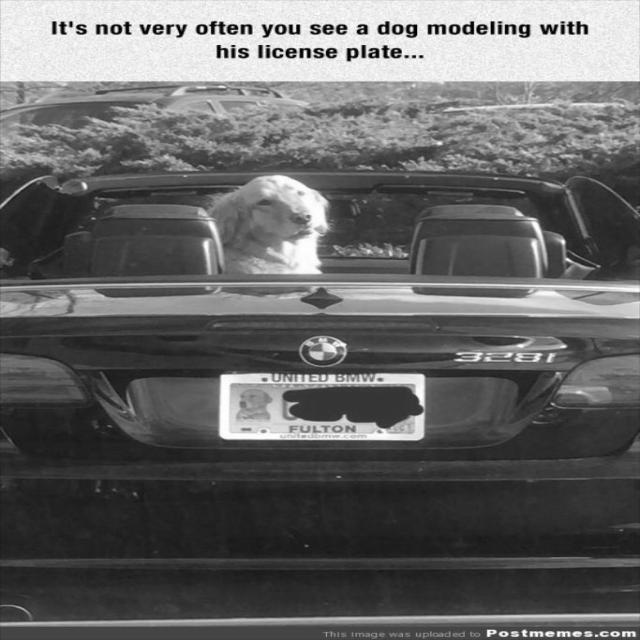plate: (220, 375, 423, 441)
